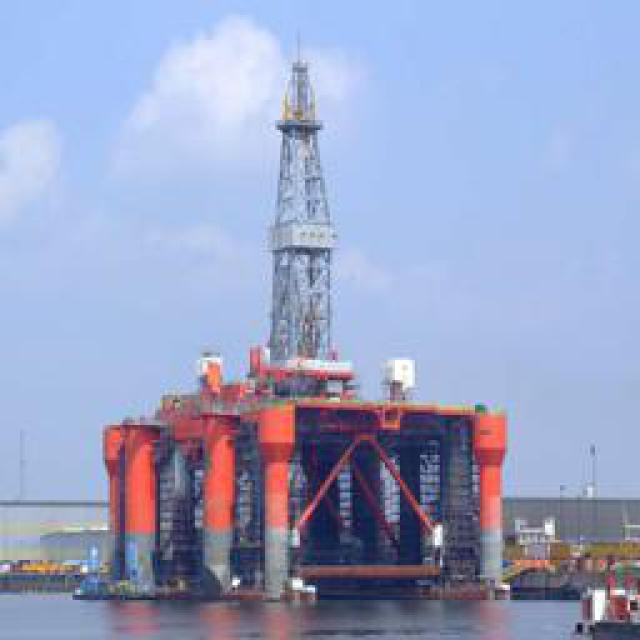Ship: (578, 574, 640, 640)
